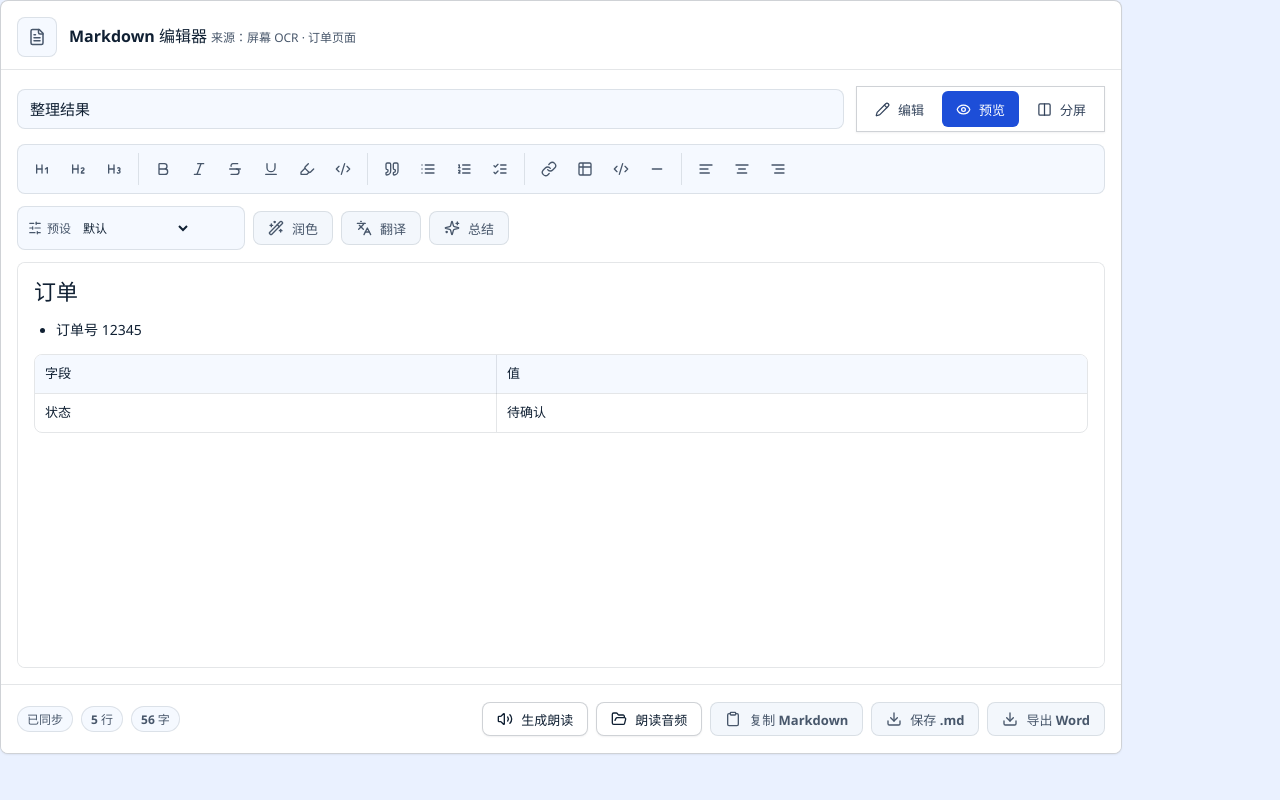
Test: MarkdownEditorShell › keeps a generated speech asset after closing and reopens it without regenerating
Expected: the button with aria-label "打开朗读音频文件夹" is shown, 596,702 -> 702,736
Click the button "生成朗读" at x=535, y=719, box 482,702 -> 588,736
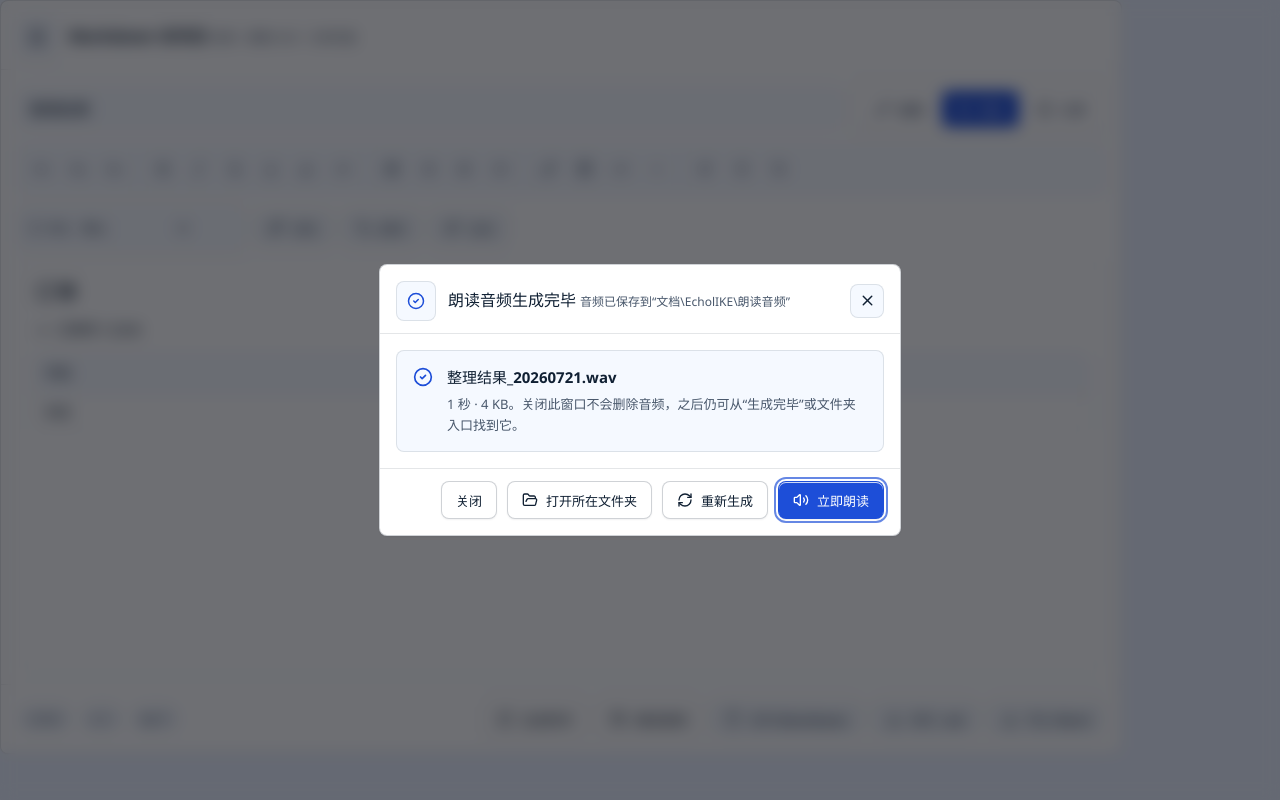
Expected: the dialog "朗读音频生成完毕" is shown, 379,264 -> 901,536
Click the button "关闭" at x=469, y=500, box 441,481 -> 497,519
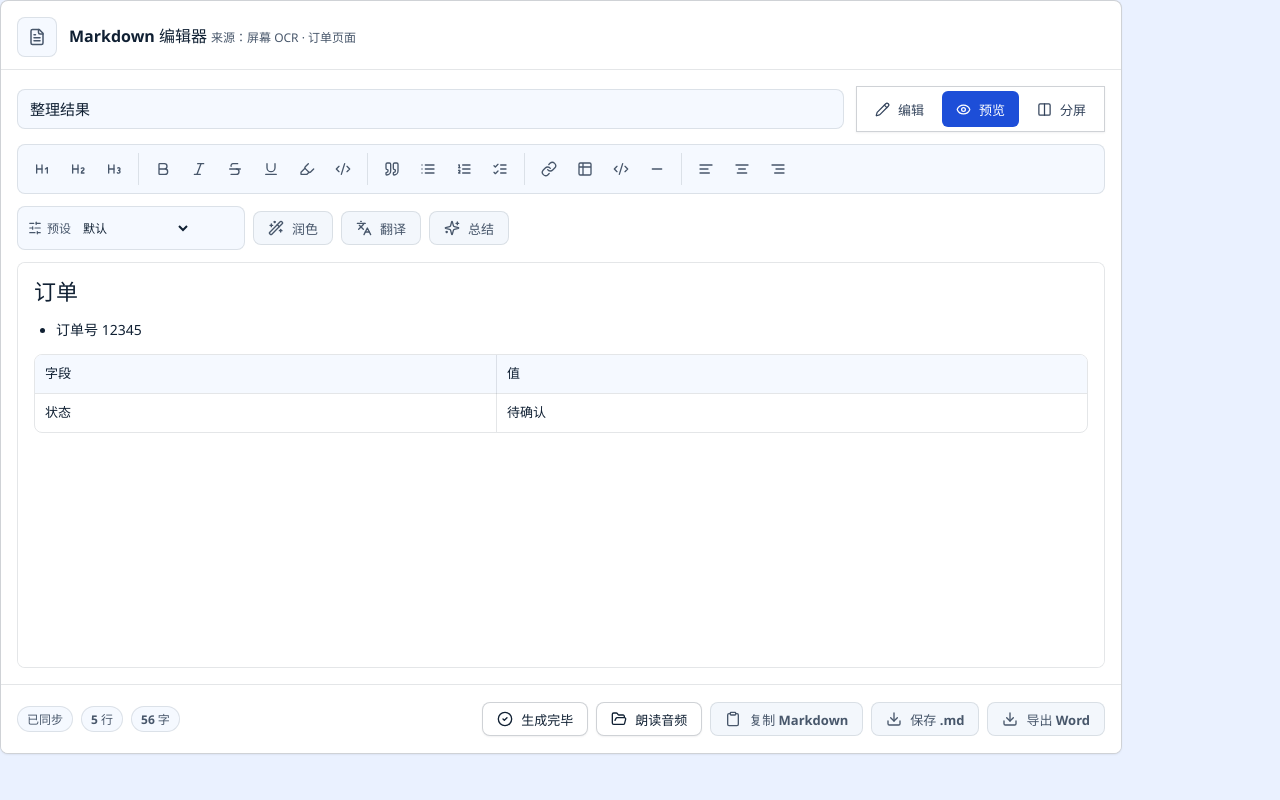
Expected: the text "朗读音频生成完毕" is gone
Click the button "生成完毕" at x=535, y=719, box 482,702 -> 588,736
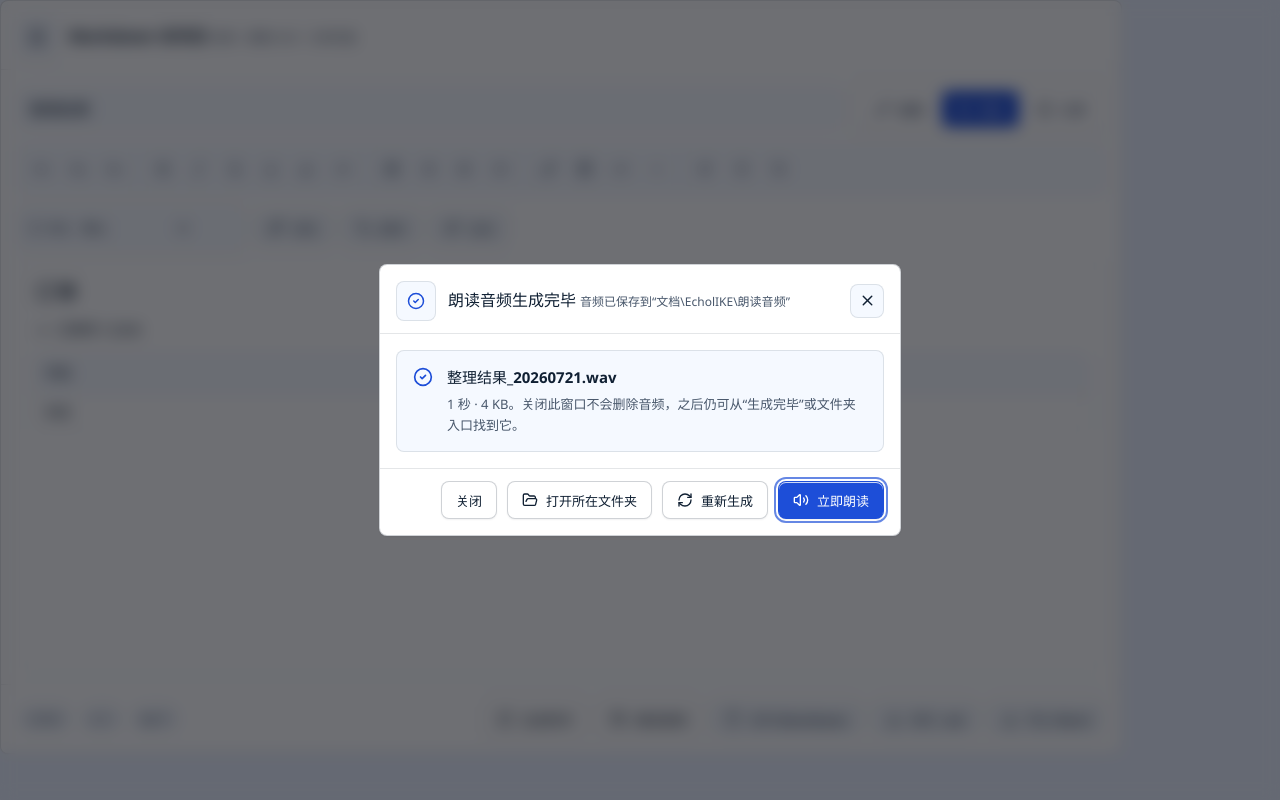
Expected: the dialog "朗读音频生成完毕" is shown, 379,264 -> 901,536
